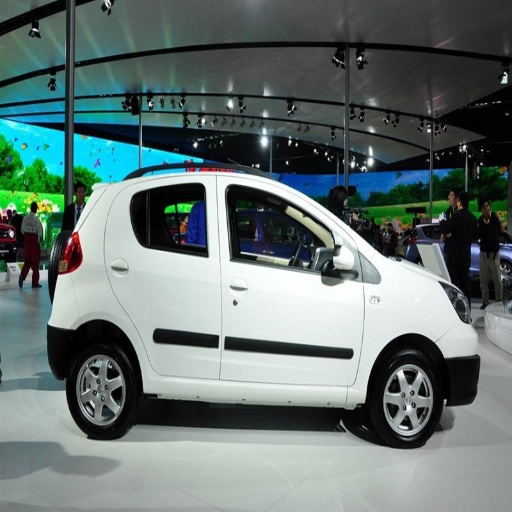back_right_door: (108, 176, 219, 382)
front_right_door: (217, 176, 364, 387)
